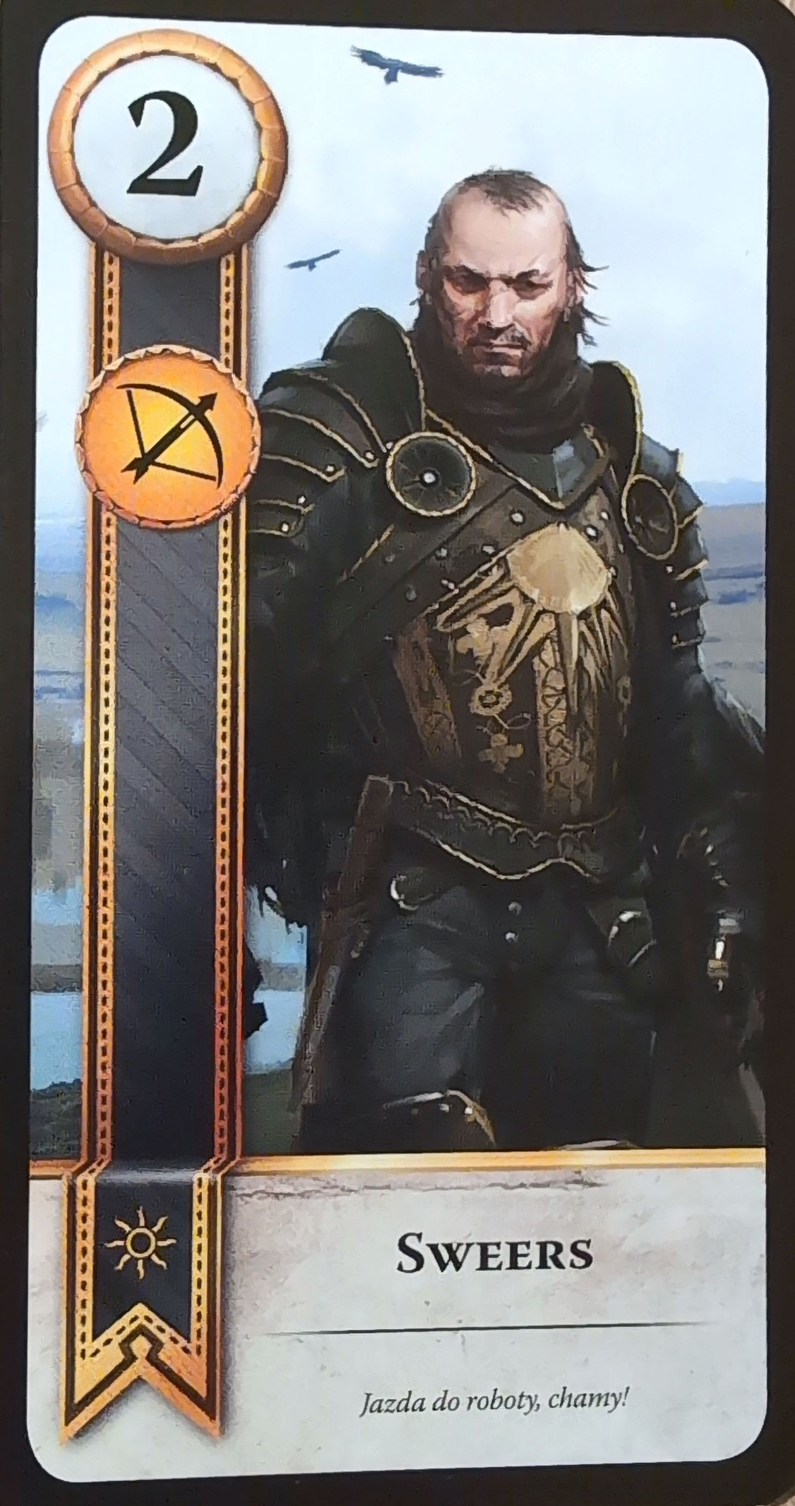2: (45, 27, 293, 266)
lucznik: (70, 342, 263, 533)
